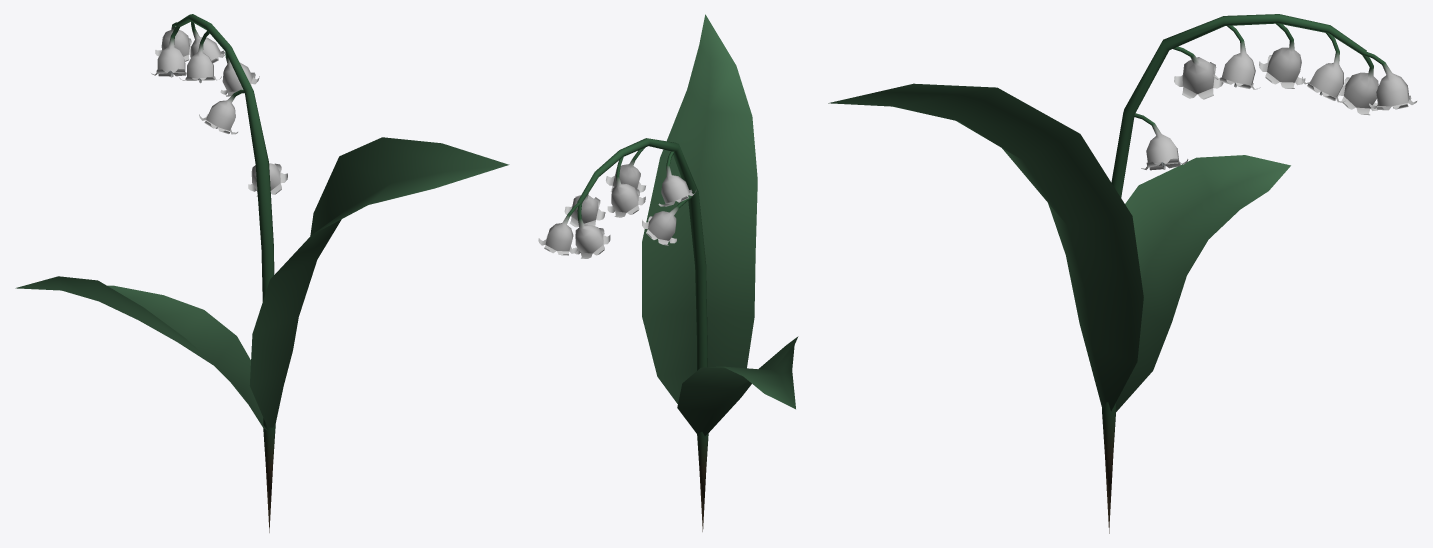
File: plants-flowers-lily-of-the-valley_v4.fbx
The picture shows the model from 3 angles, left to right: view 1: azimuth 30°, elevation 25°; view 2: azimuth 150°, elevation 25°; view 3: azimuth 270°, elevation 25°; orthographic projection. The views are drawn at different scales.
Parts seen in each view (by area): view 1: Lily of the Valley_v4; view 2: Lily of the Valley_v4; view 3: Lily of the Valley_v4.
Boxes of the visible parts, x1,y1,x2,y2 form: Lily of the Valley_v4: (15, 14, 509, 532); Lily of the Valley_v4: (538, 14, 798, 531); Lily of the Valley_v4: (828, 14, 1416, 533).
Size of the model in its own units: 0.1675 by 0.2456 by 0.25.
